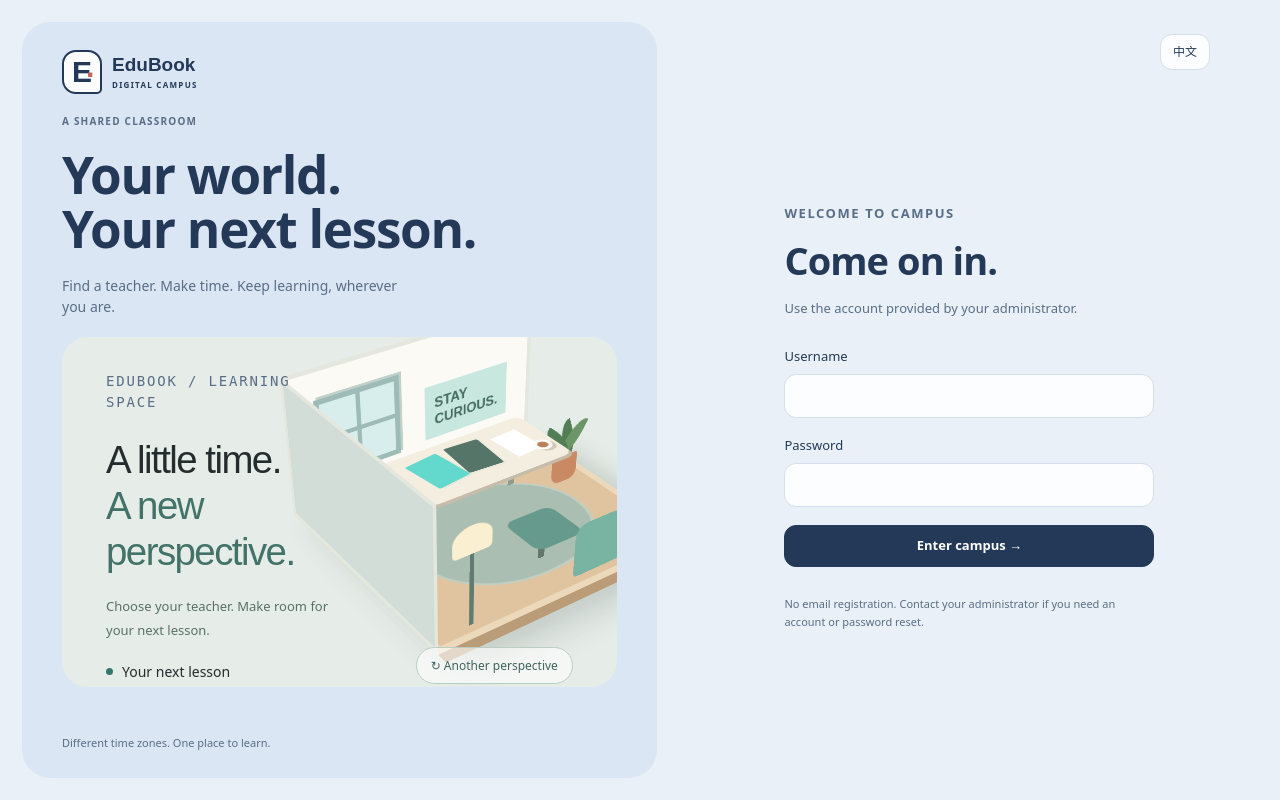
EduBook booking workspace › offers a Chinese language switch and keeps timezone as a select
Step 1. Click the button with class "language-button" → click(1185, 52), box [1160,34,1210,70]
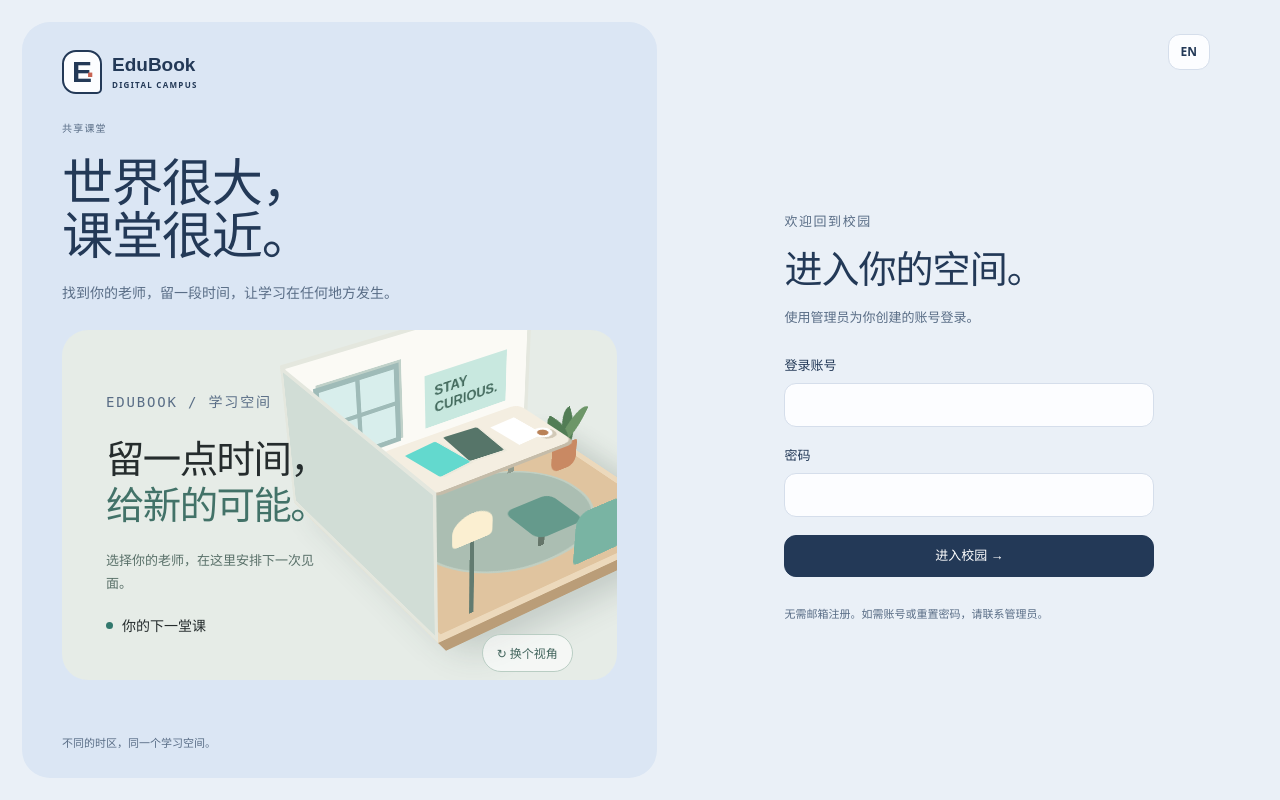
Result: the text "使用管理员为你创建的账号登录" is shown at [784,308,979,326]
